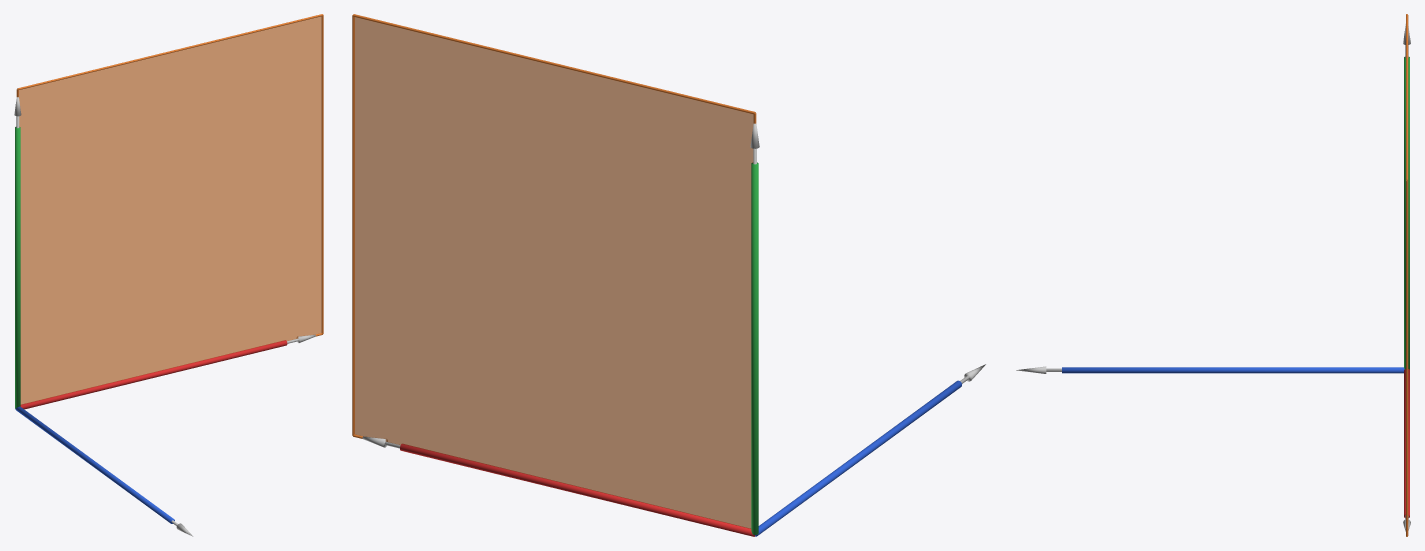
File: basis_bivector.obj
3 renders of one model, left to right at view 1: azimuth 30°, elevation 25°; view 2: azimuth 150°, elevation 25°; view 3: azimuth 270°, elevation 25°, orthographic. The views are drawn at different scales.
Parts seen in each view (by area): view 1: grp367, grp245, grp184, grp306, grp419, grp467; view 2: grp367, grp245, grp184, grp306, grp467, grp419; view 3: grp306, grp245, grp419, grp184, grp467.
Part boxes in pixels (x1,y1,x2,y2): grp367: (19, 16, 321, 404); grp245: (15, 127, 20, 408); grp184: (20, 340, 287, 409); grp306: (15, 406, 174, 523); grp419: (321, 14, 323, 333); grp467: (17, 14, 322, 89); grp367: (354, 17, 753, 528); grp245: (751, 162, 758, 534); grp184: (400, 444, 754, 536); grp306: (755, 380, 961, 536); grp467: (353, 14, 755, 114); grp419: (352, 15, 354, 435); grp306: (1062, 367, 1404, 373); grp245: (1404, 57, 1409, 369); grp419: (1406, 180, 1408, 536); grp184: (1404, 369, 1409, 517); grp467: (1406, 14, 1408, 180).
Size of the model in its own units: 1.01 by 1.01 by 1.01.
